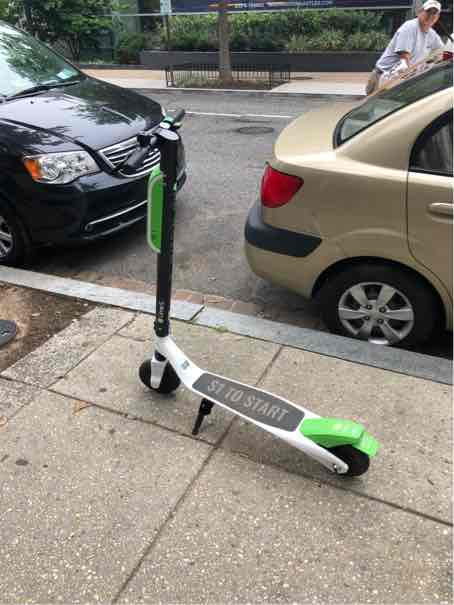scooter: (117, 102, 383, 488)
